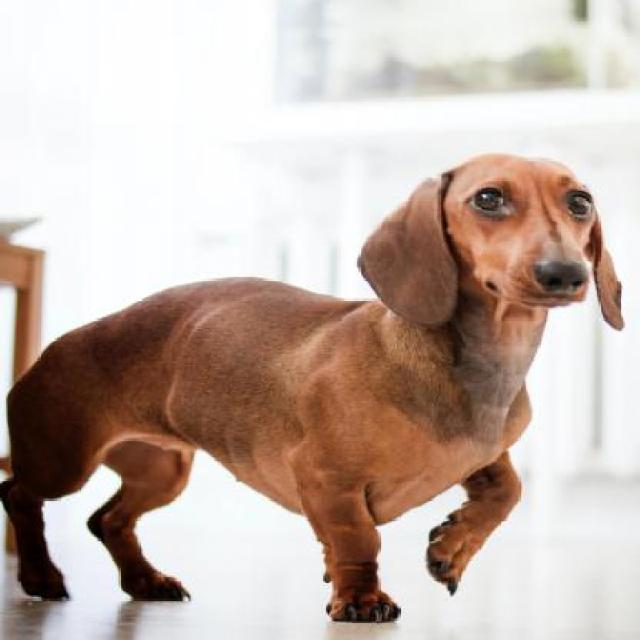Dog: (3, 150, 626, 628)
